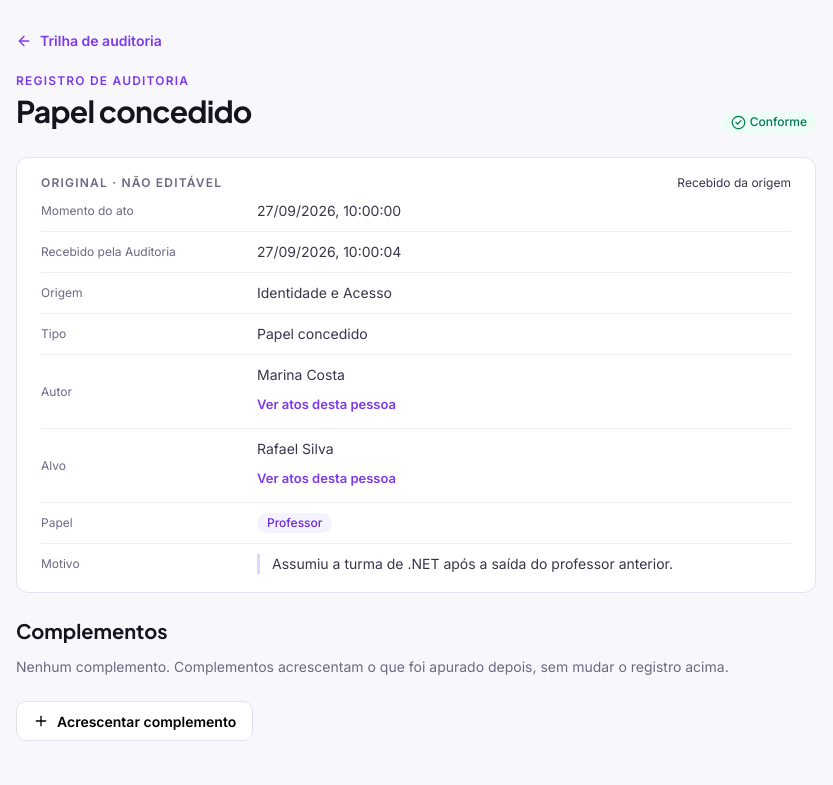
Test: audit complement confirmation › keeps the accepted confirmation pending without sending a second key automatically
The image size is (833, 785).
Click the button "Acrescentar complemento": (135, 721) [16,701,253,741]
(page scrolled)
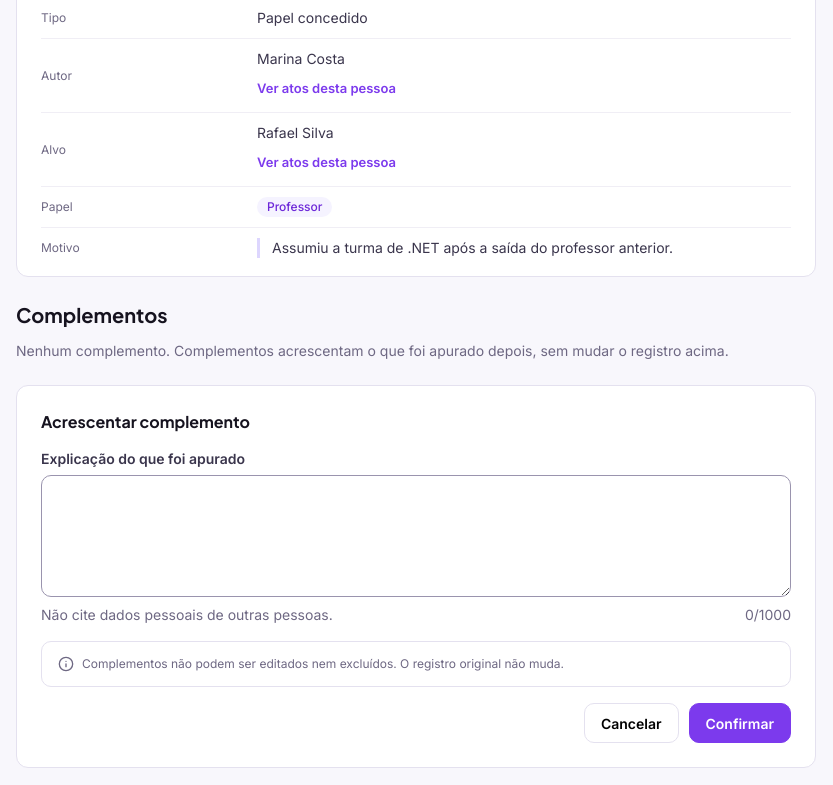
In the text box labelled "Explicação do que foi apurado": (416, 536) [41,475,791,597], type "The access change was verified against the internal support case."
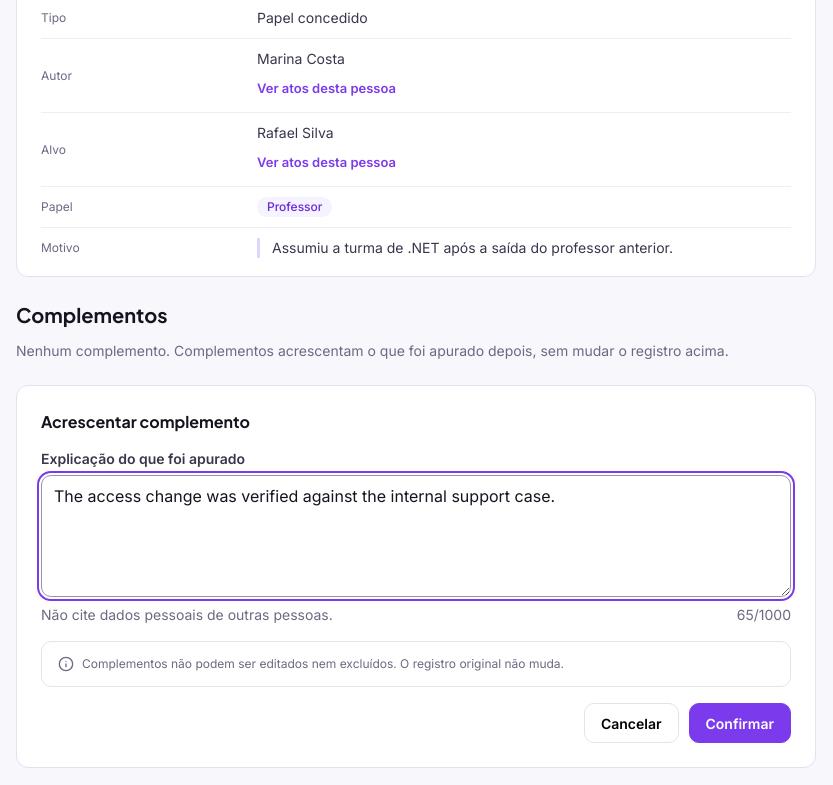
Click the button "Confirmar": (740, 723) [688,703,791,743]
(page scrolled)
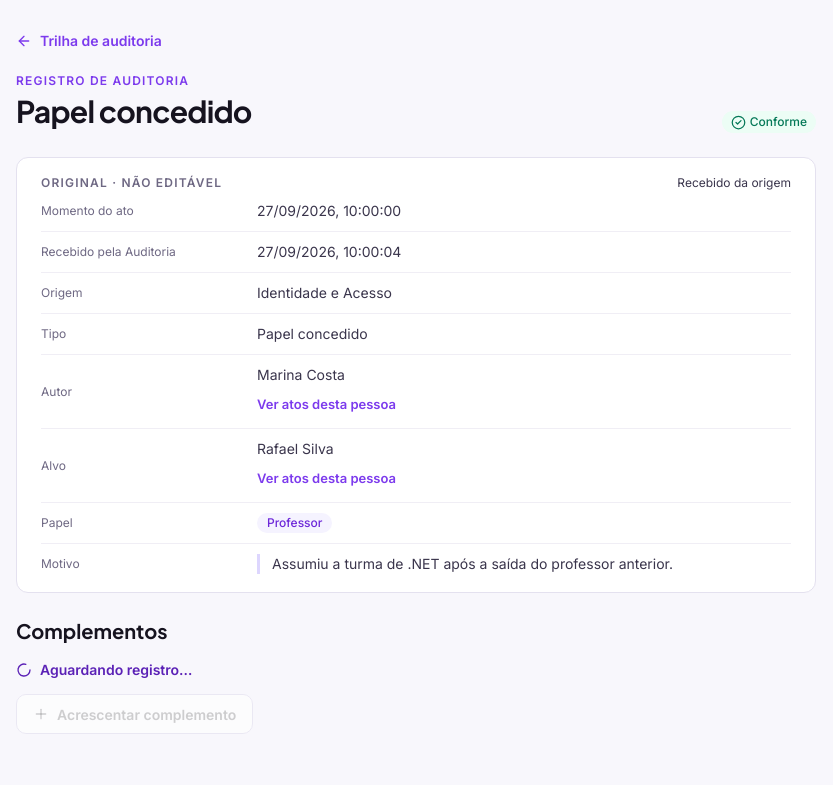
Expected: the list item "Aguardando registro…" is shown, [16,661,192,678]
Expected: the button "Acrescentar complemento" is disabled, [16,694,253,734]
